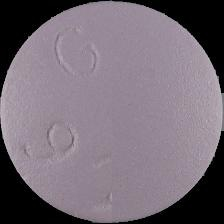64725-1053: (0, 0, 224, 224)
